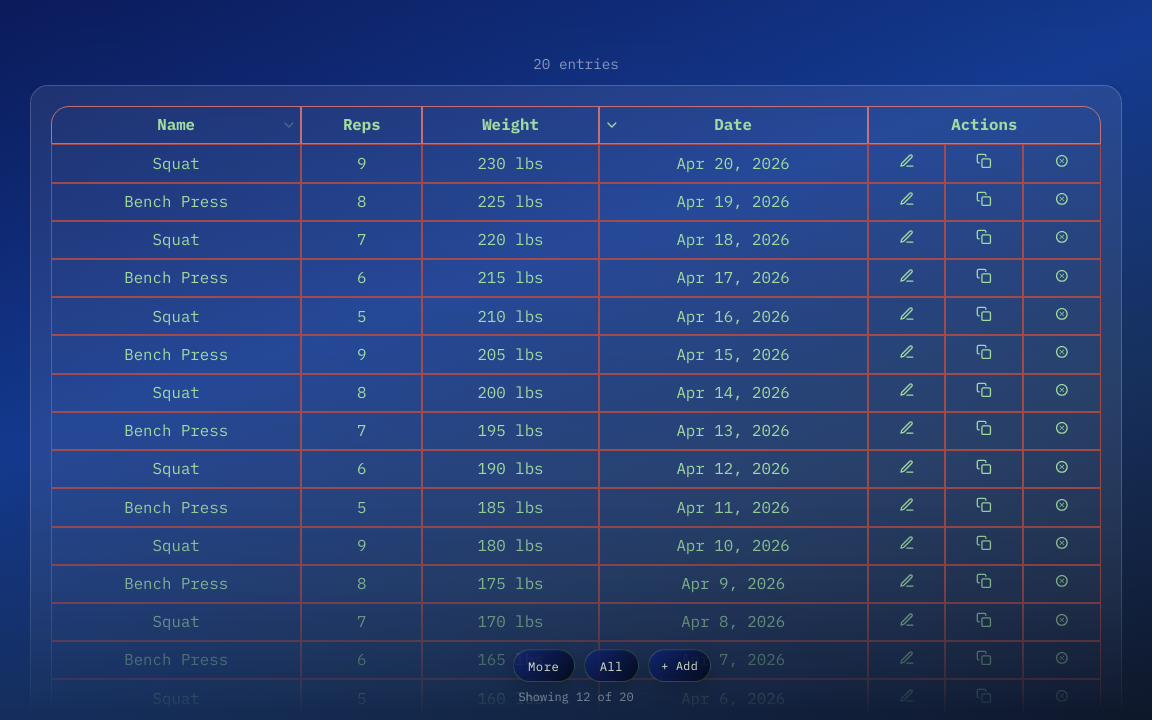
Test: ExerciseTable › moves less below the table when all entries are shown
Click the button "All" at (611, 666), box 584,649 -> 638,682
(page scrolled)
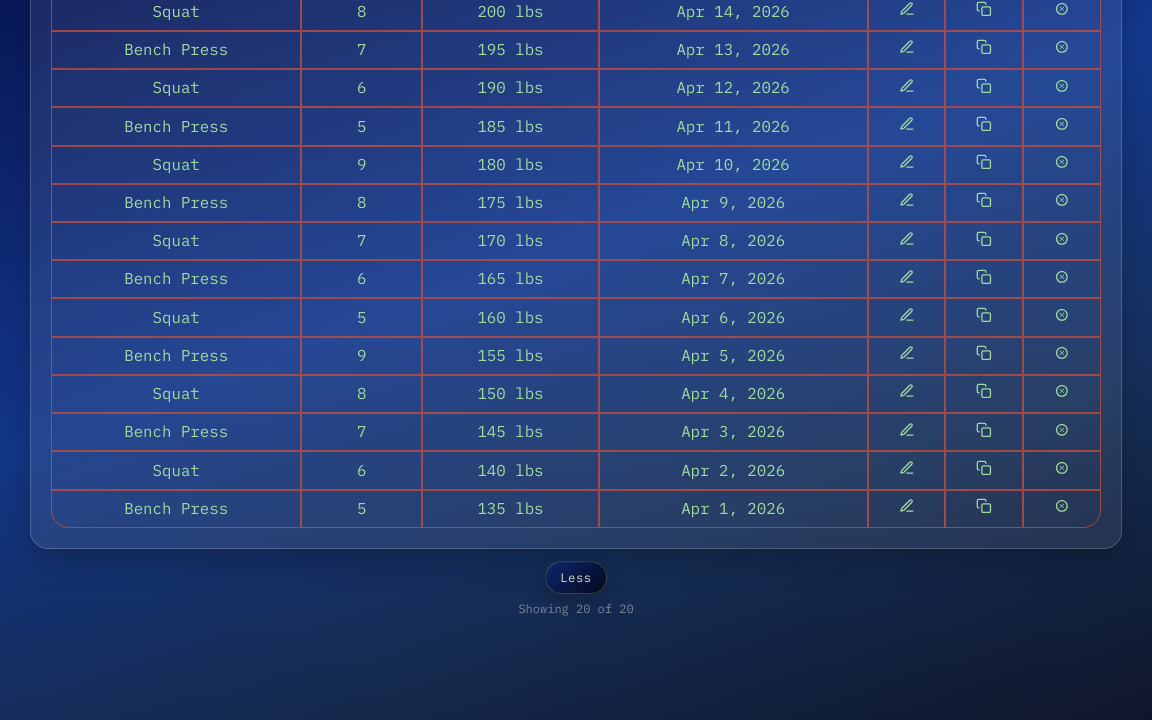
Check: the text "Showing 12 of 20" is gone
Check: the button "More" is gone
Check: the button "Less" is shown, box 545,561 -> 607,594
